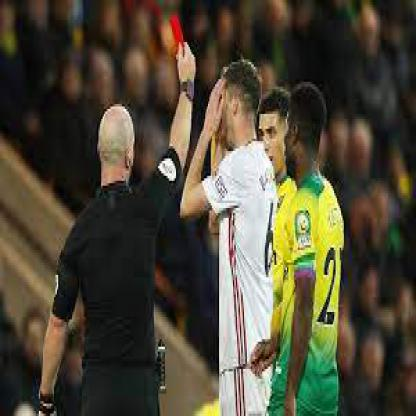foul: (148, 8, 203, 182)
